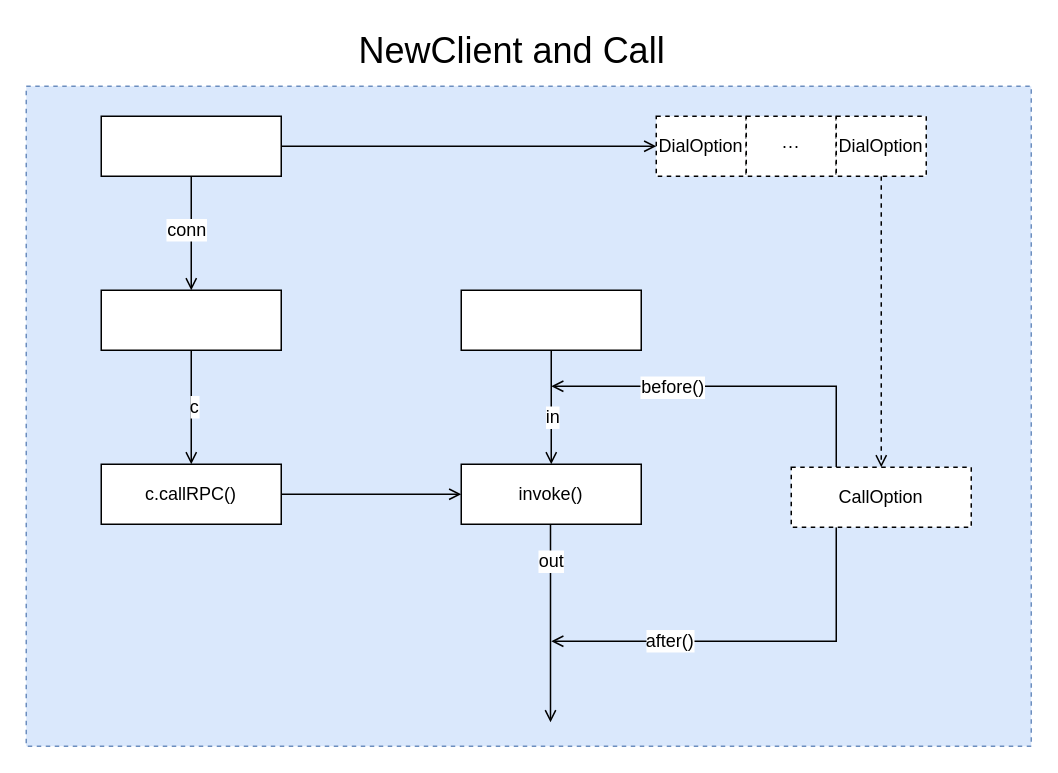
This 1058x773 diagram has some shape labels left out. Here are the shapes that lost their labels. From the top down, the box of each, then its label:
(100, 115, 281, 176): gRPC.Dial()
(100, 289, 281, 350): pb.NewGRPCClient()
(460, 289, 641, 350): request
